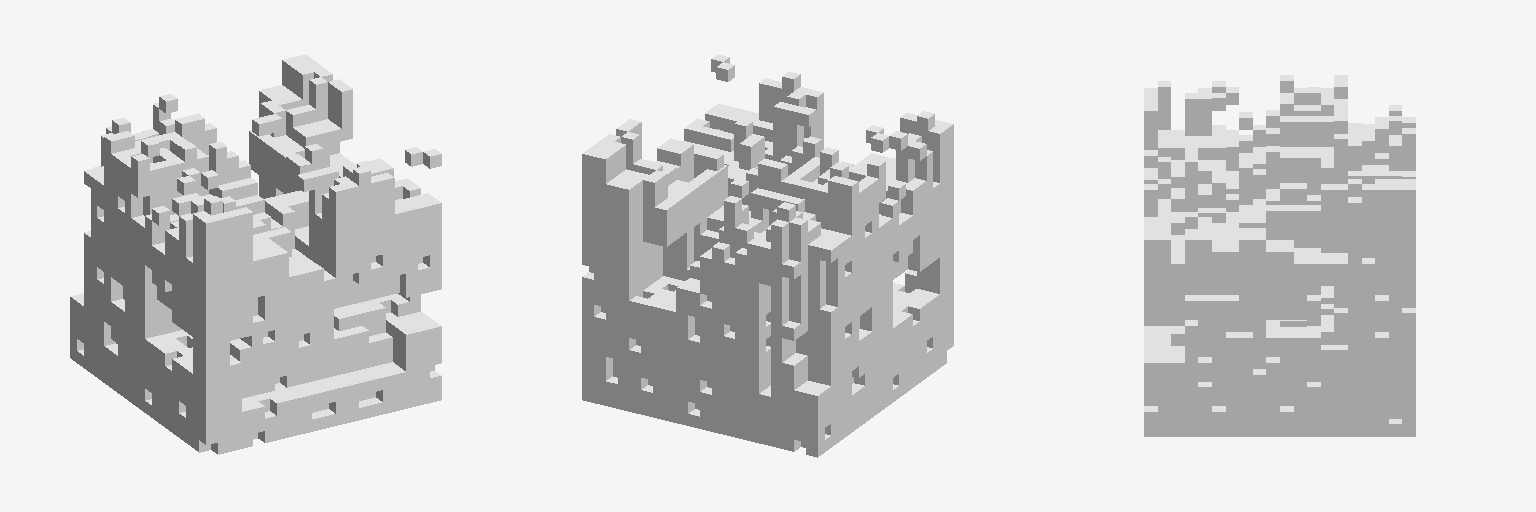
Rendered from SpikeVar3.obj.
The picture shows the model from 3 angles: view 1: azimuth 30°, elevation 25°; view 2: azimuth 150°, elevation 25°; view 3: azimuth 270°, elevation 25°; orthographic projection.
Visible parts, largest first — view 1: object 1; view 2: object 1; view 3: object 1.
Boxes of the visible parts, box(x1,y1,x2,y2) form: object 1: box(70, 54, 441, 454); object 1: box(582, 54, 953, 457); object 1: box(1144, 75, 1415, 436).
Bounding box in the file's own units: 2 × 2 × 2.